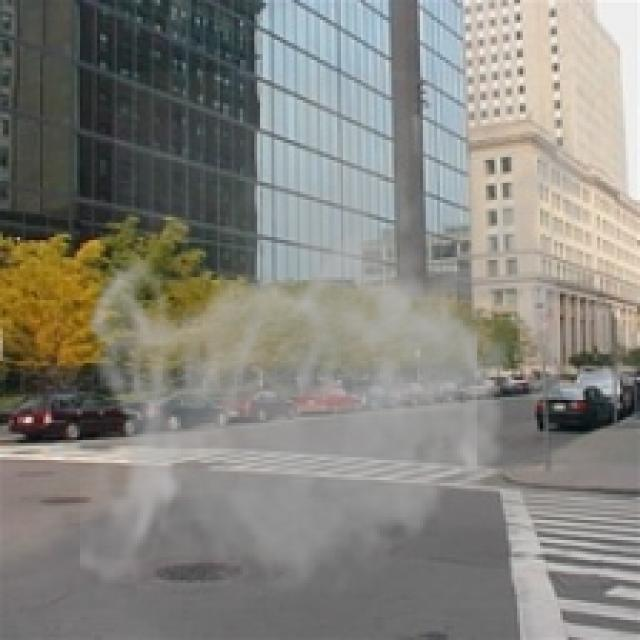smoke: (80, 71, 600, 612)
